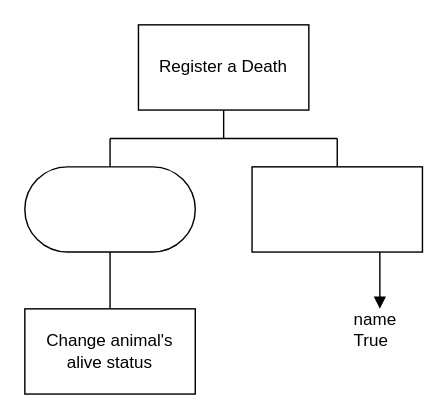
Image size: 447x419. Some labels were removed from this diagram. The centre of each missing label's shape, as x and y in pixels:
Loop until the animal that died is found: the point at 109,208
Modify database record: the point at 336,208
